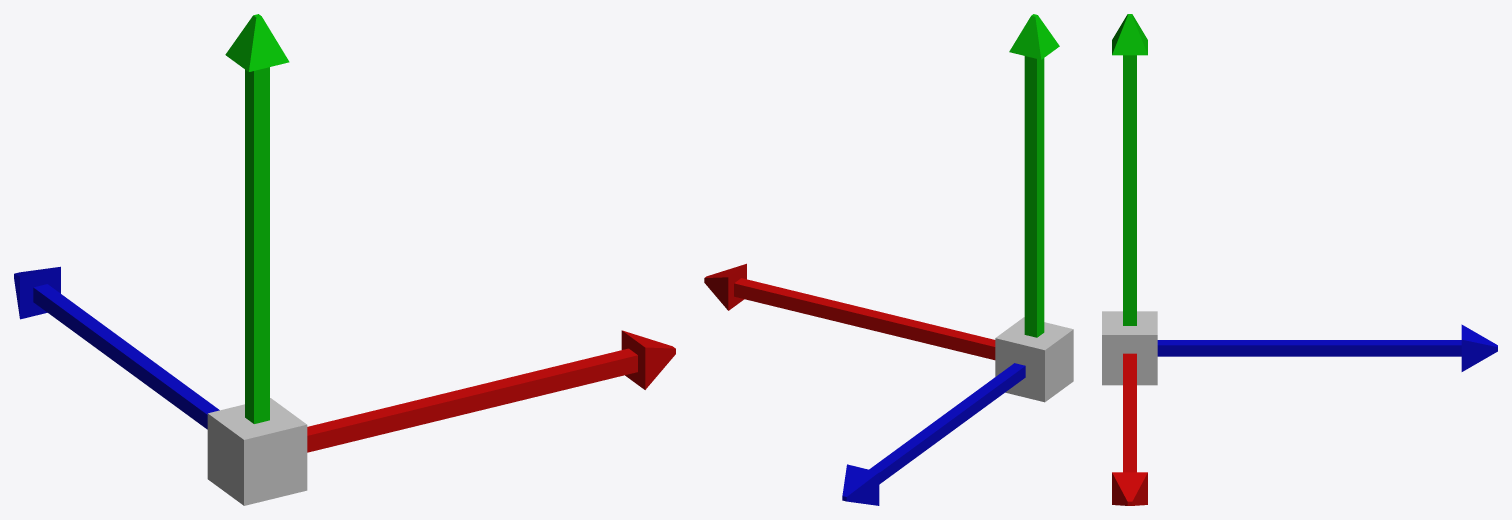
File: axis.obj
3 views of the same model, side by side, from view 1: azimuth 30°, elevation 25°; view 2: azimuth 150°, elevation 25°; view 3: azimuth 270°, elevation 25° (orthographic). The views are drawn at different scales.
Parts seen in each view (by area): view 1: Cube; view 2: Cube; view 3: Cube.
Part boxes in pixels (x1,y1,x2,y2): Cube: [14, 14, 675, 505]; Cube: [704, 14, 1073, 505]; Cube: [1102, 14, 1497, 505].
Bounding box in the file's own units: 5.46 × 5.46 × 5.46.
